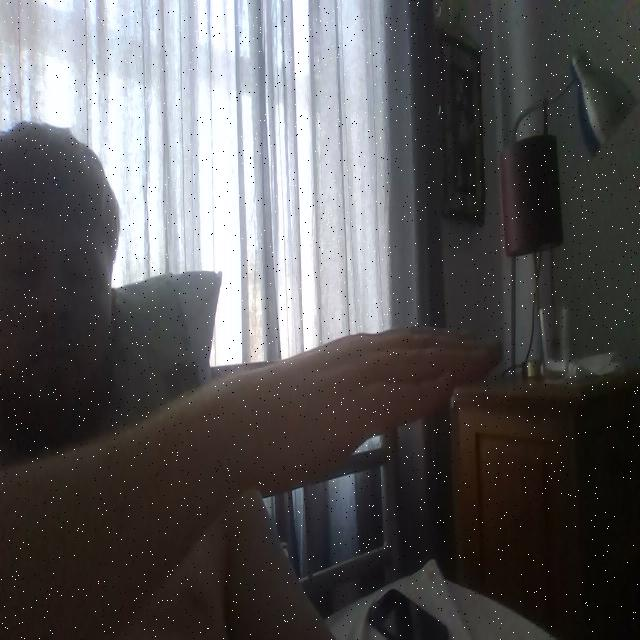papper: (213, 298, 507, 511)
